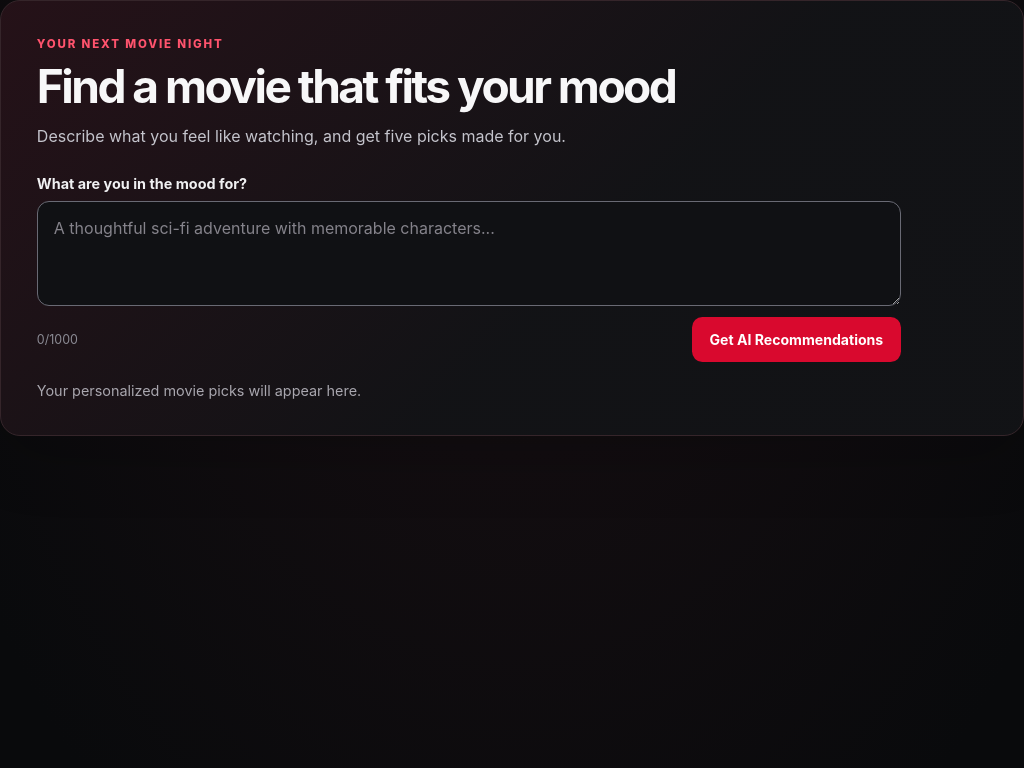
Test: AIRecommendationSection › rejects an invalid recommendation payload
Type "thoughtful sci-fi" into the text box labelled "What are you in the mood for?" at (469, 254), box [37, 201, 901, 306]
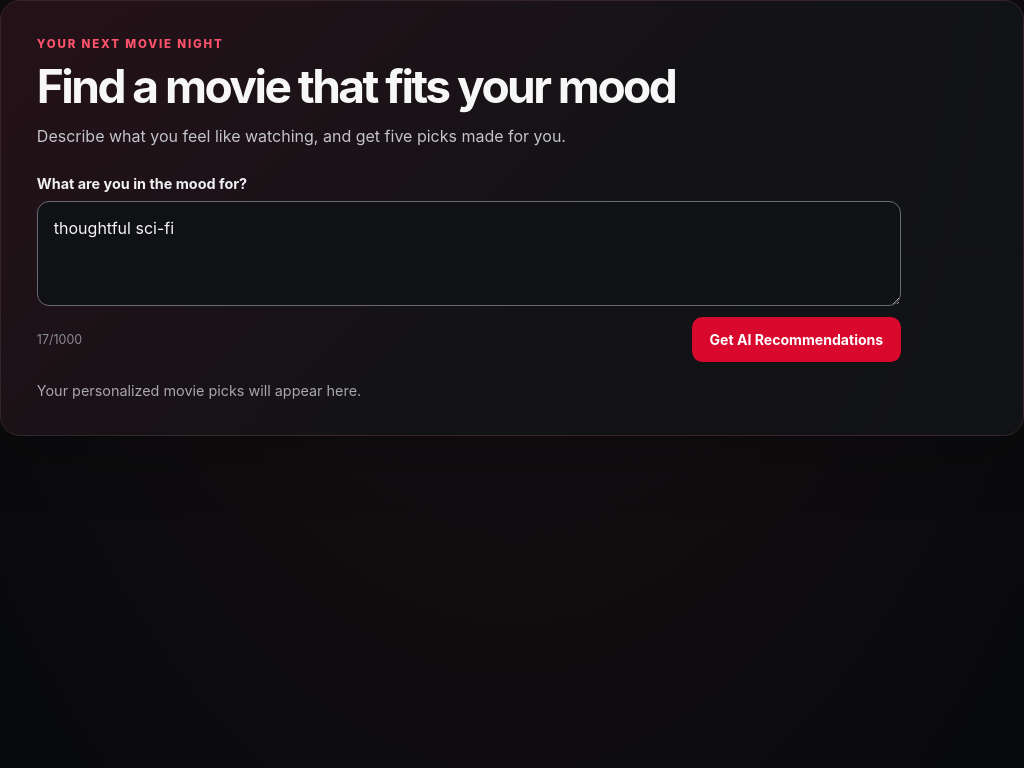
Click the button "Get AI Recommendations" at (796, 339), box [692, 316, 901, 362]
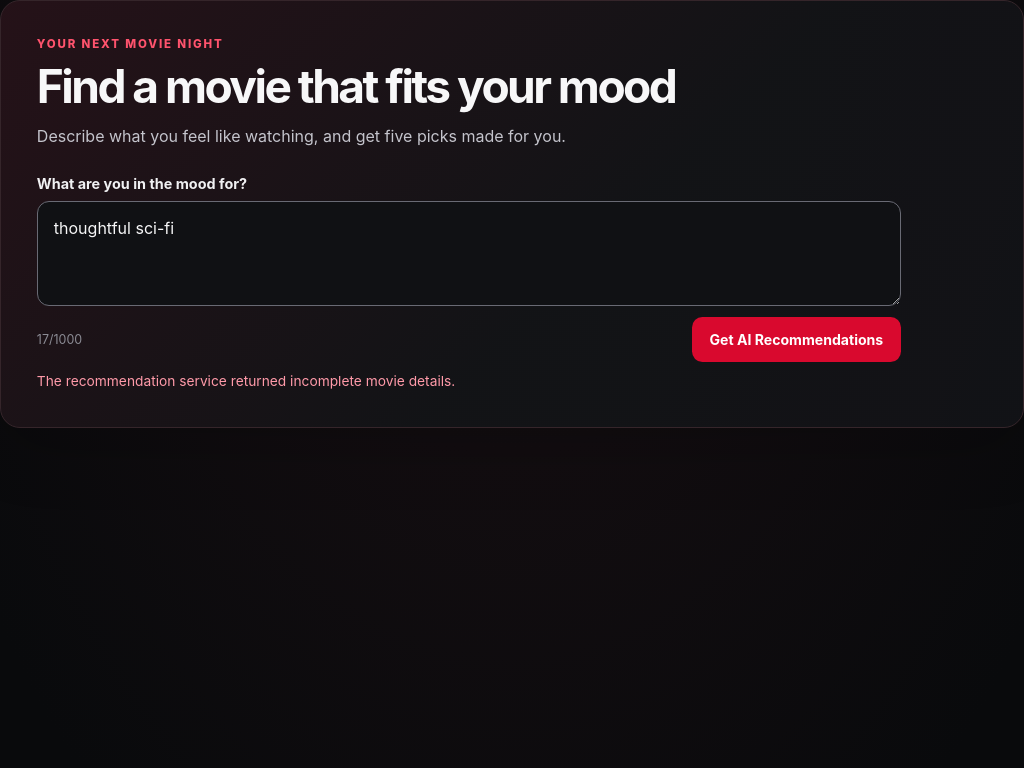
expect the message reads "The recommendation service returned incomplete movie details.": met, box [37, 373, 455, 389]
